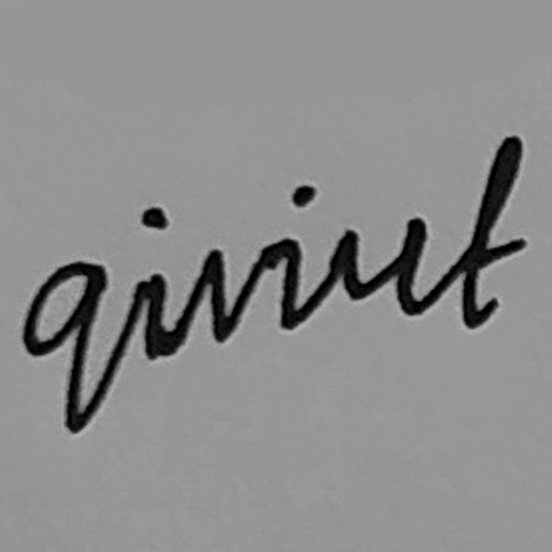i: (125, 204, 180, 375), (276, 178, 319, 338)
q: (17, 254, 113, 437)
t: (451, 130, 538, 333)
u: (330, 211, 431, 316)
v: (194, 237, 276, 347)
